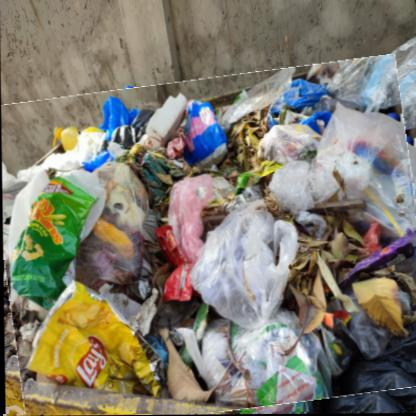Garbage: (1, 67, 416, 416)
